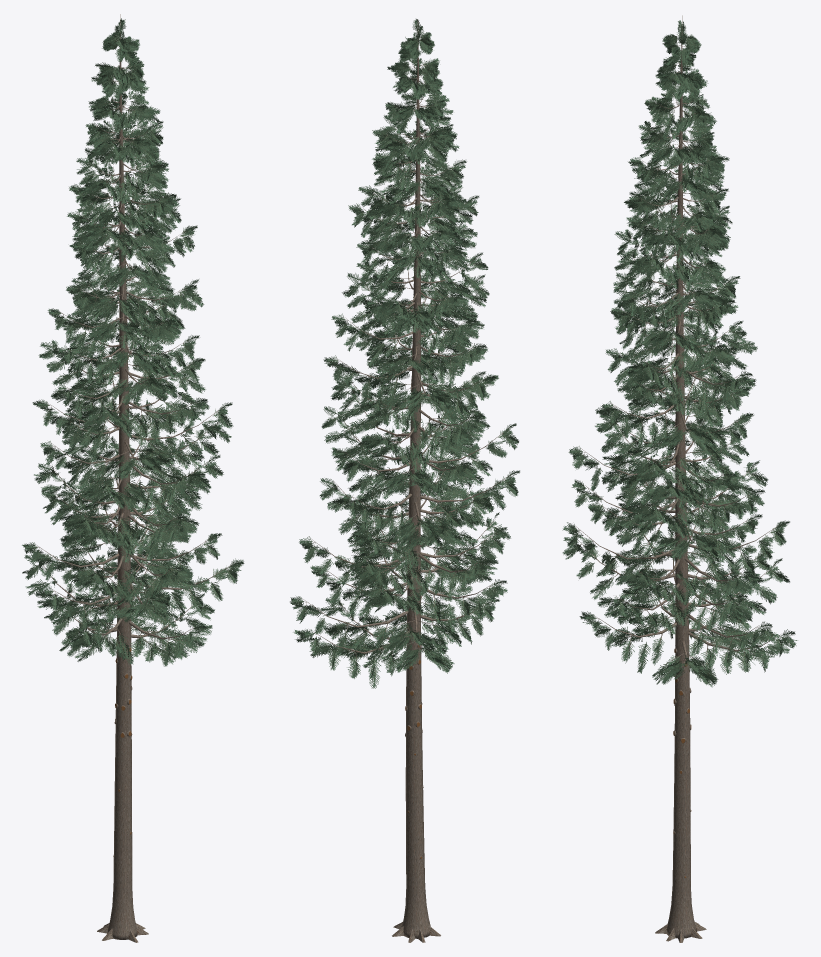
File: Sitka_Mature_Benchmark_01_MediumPruned_Recent_LOD0.fbx
The picture shows the model from 3 angles, left to right: view 1: azimuth 30°, elevation 25°; view 2: azimuth 150°, elevation 25°; view 3: azimuth 270°, elevation 25°; orthographic projection.
Parts seen in each view (by area): view 1: Sitka_Mature_Benchmark_01_MediumPruned_Recent_LOD0_Foliage, Sitka_Mature_Benchmark_01_MediumPruned_Recent_LOD0_Trunk, Sitka_Mature_Benchmark_01_MediumPruned_Recent_LOD0_Branches; view 2: Sitka_Mature_Benchmark_01_MediumPruned_Recent_LOD0_Foliage, Sitka_Mature_Benchmark_01_MediumPruned_Recent_LOD0_Trunk, Sitka_Mature_Benchmark_01_MediumPruned_Recent_LOD0_Branches; view 3: Sitka_Mature_Benchmark_01_MediumPruned_Recent_LOD0_Foliage, Sitka_Mature_Benchmark_01_MediumPruned_Recent_LOD0_Trunk, Sitka_Mature_Benchmark_01_MediumPruned_Recent_LOD0_Branches.
Part boxes in pixels (x1,y1,x2,y2): Sitka_Mature_Benchmark_01_MediumPruned_Recent_LOD0_Foliage: [22, 18, 244, 666]; Sitka_Mature_Benchmark_01_MediumPruned_Recent_LOD0_Trunk: [97, 14, 148, 942]; Sitka_Mature_Benchmark_01_MediumPruned_Recent_LOD0_Branches: [37, 35, 233, 647]; Sitka_Mature_Benchmark_01_MediumPruned_Recent_LOD0_Foliage: [290, 19, 519, 688]; Sitka_Mature_Benchmark_01_MediumPruned_Recent_LOD0_Trunk: [392, 19, 440, 942]; Sitka_Mature_Benchmark_01_MediumPruned_Recent_LOD0_Branches: [300, 38, 508, 661]; Sitka_Mature_Benchmark_01_MediumPruned_Recent_LOD0_Foliage: [562, 20, 797, 687]; Sitka_Mature_Benchmark_01_MediumPruned_Recent_LOD0_Trunk: [655, 15, 706, 942]; Sitka_Mature_Benchmark_01_MediumPruned_Recent_LOD0_Branches: [576, 37, 784, 667].
Size of the model in its own units: 580 by 2600 by 644.
Materials: 3 (3 with a texture image).
